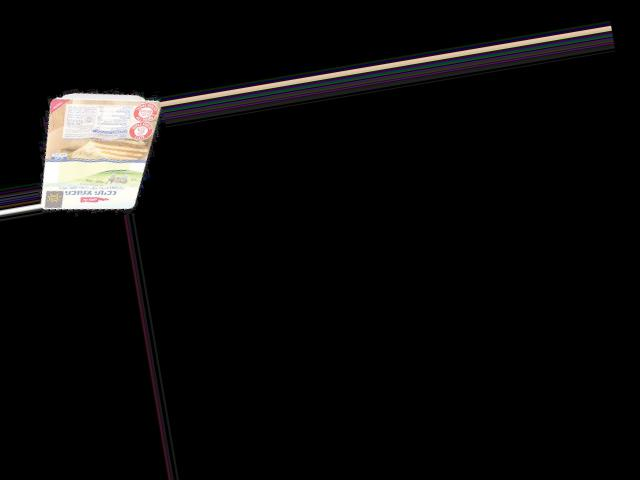cheese: (35, 85, 156, 220)
